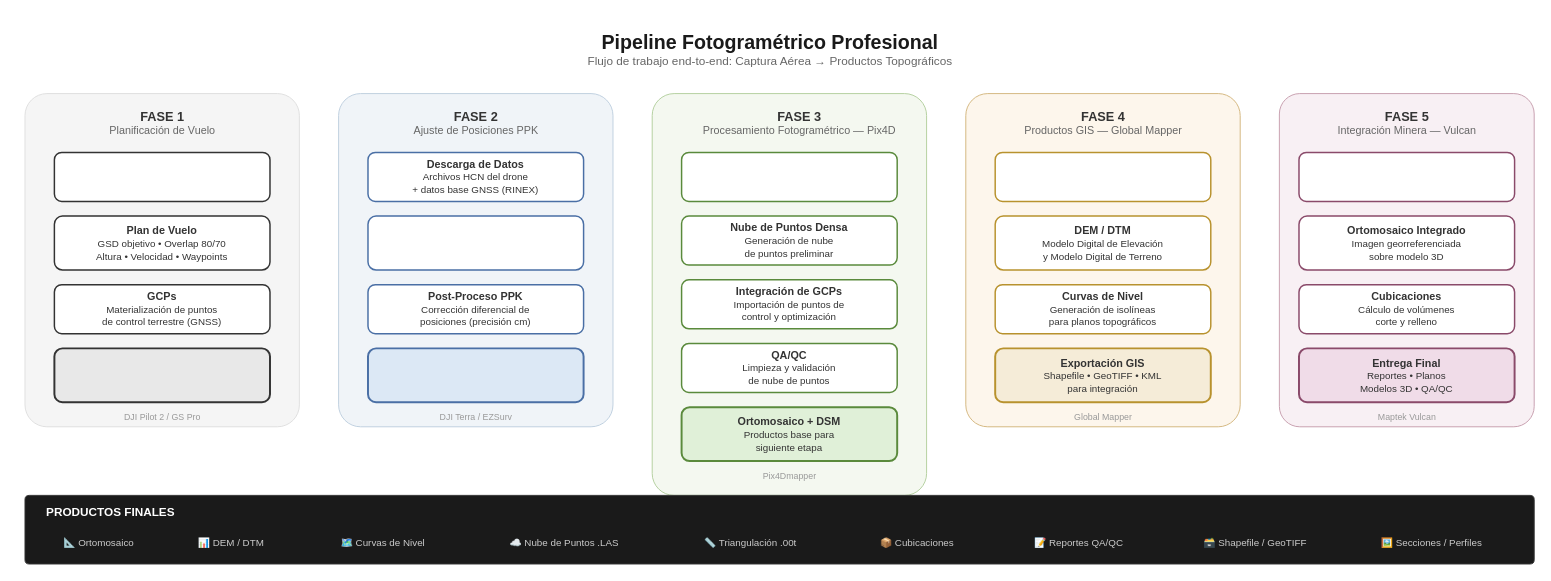
The diagram is 1551 pixels wide and 581 high, and some of its shapes have lost their labels. Here are the shapes that lost their labels. From the top down, the centre of each, then its label:
At (x=161, y=176): "Reconocimiento Definición de área, restricciones y accesos".
At (x=788, y=176): "Calibración de Cámaras Corrección de posición y parámetros intrínsecos".
At (x=1102, y=176): "Nube de Puntos .LAS Importación y clasificación de nube de puntos".
At (x=1406, y=176): "Triangulación .00t Superficie triangulada para modelo minero".
At (x=475, y=242): "Conversión HCN → RINEX Transformación de formato nativo a estándar RINEX".
At (x=161, y=375): "Ejecución del Vuelo DJI Matrice 350/400 RTK Captura fotogramétrica".
At (x=475, y=375): "Fichero Corregido Posiciones georreferenciadas con precisión centimétrica".
